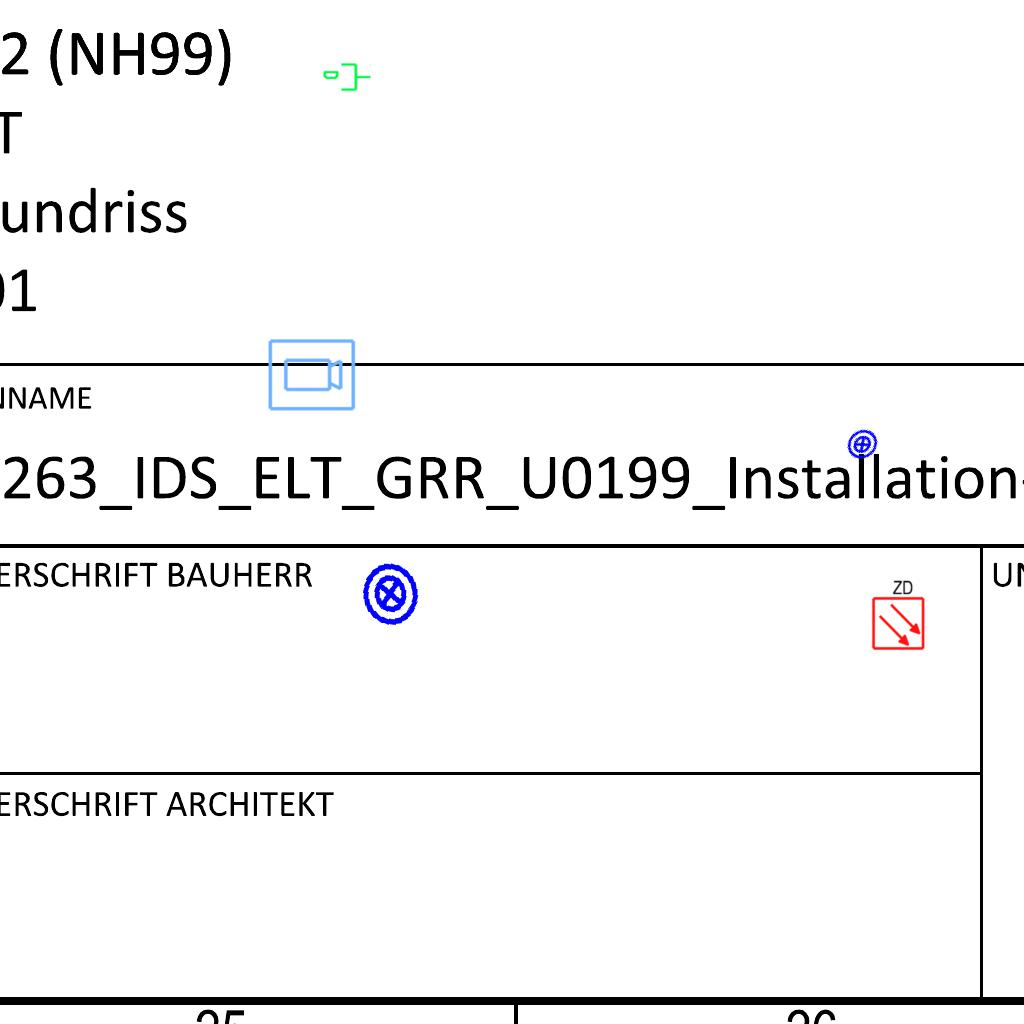Datenanschluss_einfach: (322, 61, 372, 95)
KFO_Kamera_mit_Festobjektiv: (266, 337, 357, 414)
Taster_beleuchtet: (352, 556, 428, 632), (839, 421, 886, 468)
ZD_Melder_in_Zwischendecke_mit_Revisionsoeffnung_mind_40_x_40_cm: (869, 577, 926, 651)
